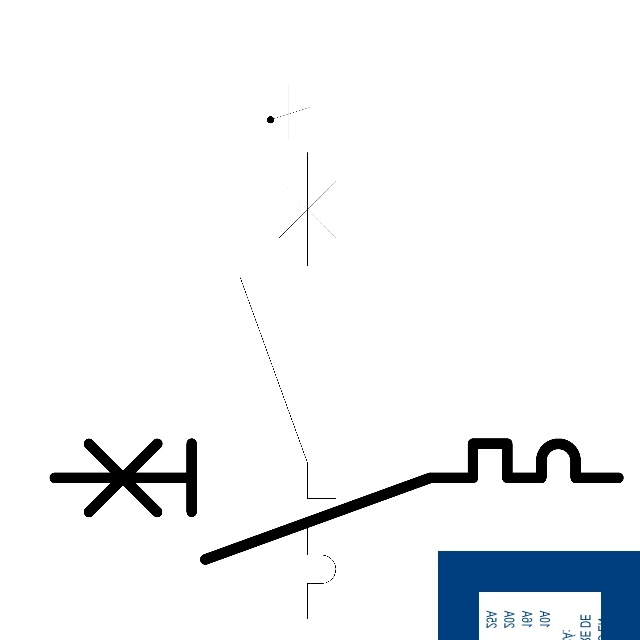interruptor_termomagnetico: (40, 429, 633, 574), (228, 140, 348, 631)
